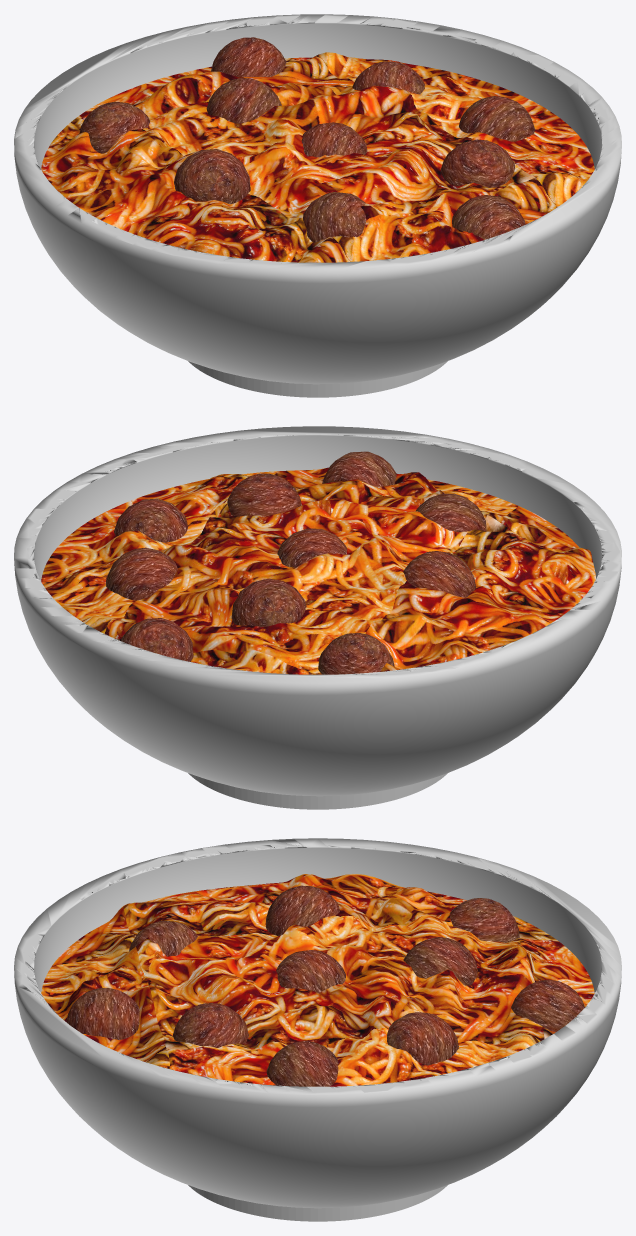
Rendered from Spaghetti.fbx.
3 renders of one model, top to bottom at view 1: azimuth 30°, elevation 25°; view 2: azimuth 150°, elevation 25°; view 3: azimuth 270°, elevation 25°, orthographic.
Parts seen in each view (by area): view 1: Bowl; view 2: Bowl; view 3: Bowl.
Boxes of the visible parts, bbox=[...] form: Bowl: bbox=[14, 14, 621, 397]; Bowl: bbox=[14, 426, 621, 809]; Bowl: bbox=[14, 838, 621, 1221].
Size of the model in its own units: 39.72 by 15.69 by 39.72.
